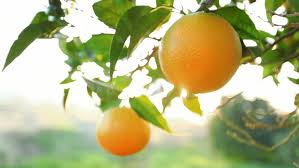orange: (156, 9, 246, 97), (94, 104, 156, 160)
